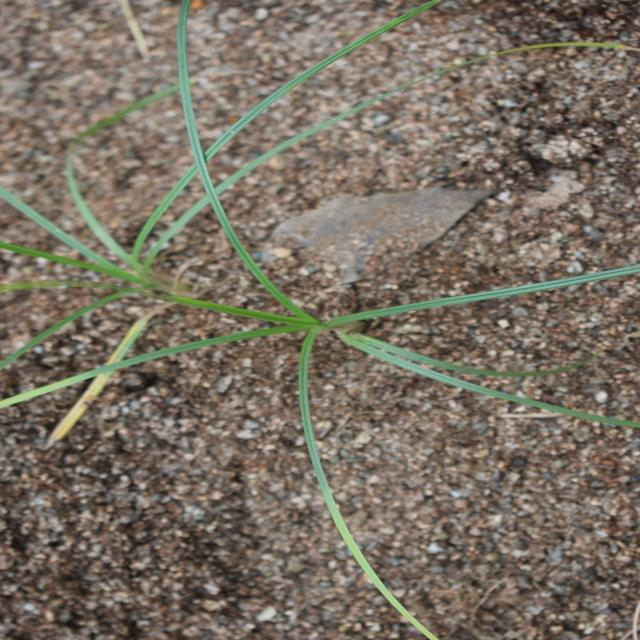sedge: (76, 60, 568, 613)
